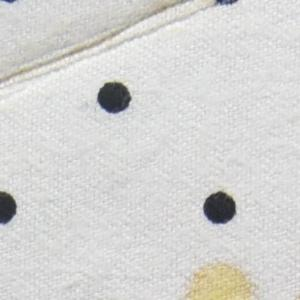Oil Stain: (1, 1, 236, 99)
Stain: (186, 261, 260, 300)
